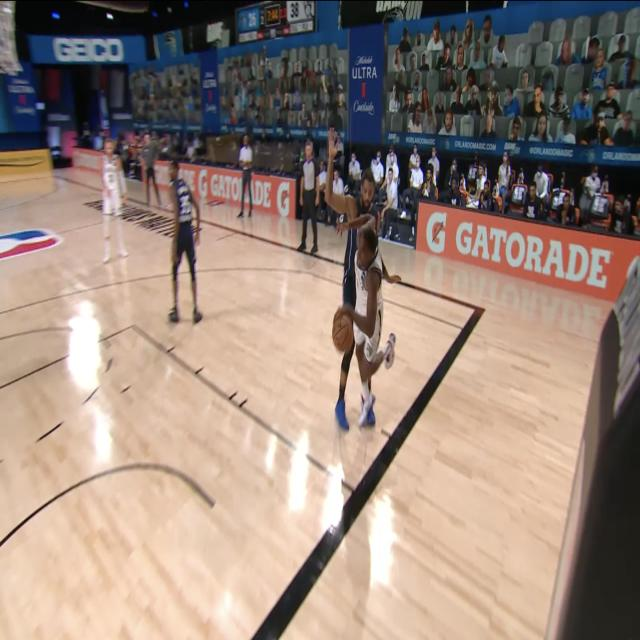Foul: (316, 162, 401, 440)
